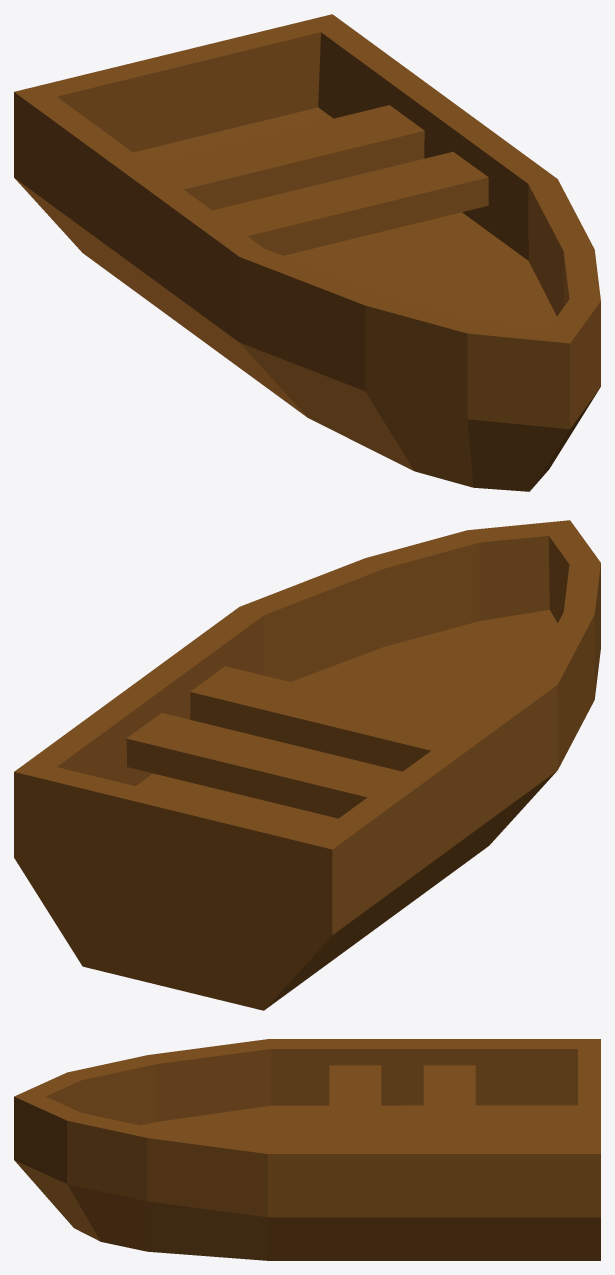
Rendered from boat.glb.
3 views of the same model, one above another, from view 1: azimuth 30°, elevation 25°; view 2: azimuth 150°, elevation 25°; view 3: azimuth 270°, elevation 25° (orthographic). The views are drawn at different scales.
Parts seen in each view (by area): view 1: Boat; view 2: Boat; view 3: Boat.
Part boxes in pixels (bbox=[...]): Boat: bbox=[14, 14, 600, 491]; Boat: bbox=[14, 520, 600, 1010]; Boat: bbox=[14, 1039, 600, 1260].
Size of the model in its own units: 1.1 by 0.5862 by 2.37.
